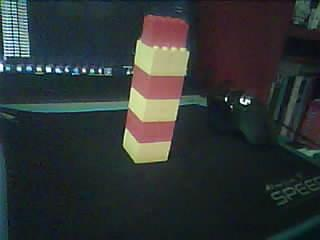lego: (122, 12, 190, 163)
